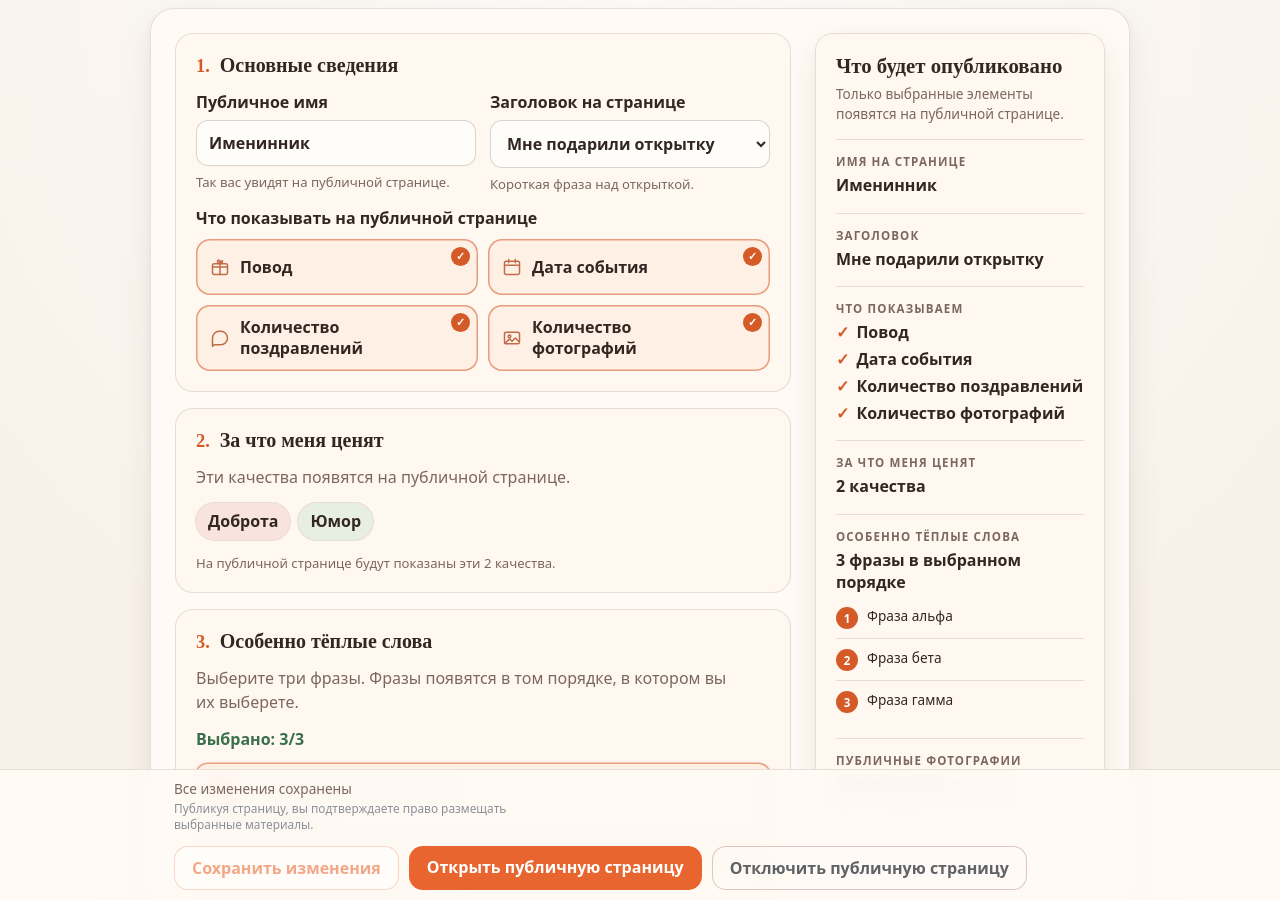
Scenario: PublicSharePanel: состояния действий › C: ACTIVE + ввод в поле имени — «Посмотреть изменения», «Открыть опубликованную страницу», статус о неопубликованных изменениях
Type "X" into the field showing "Именинник" at (336, 143), box [196,120,476,166]
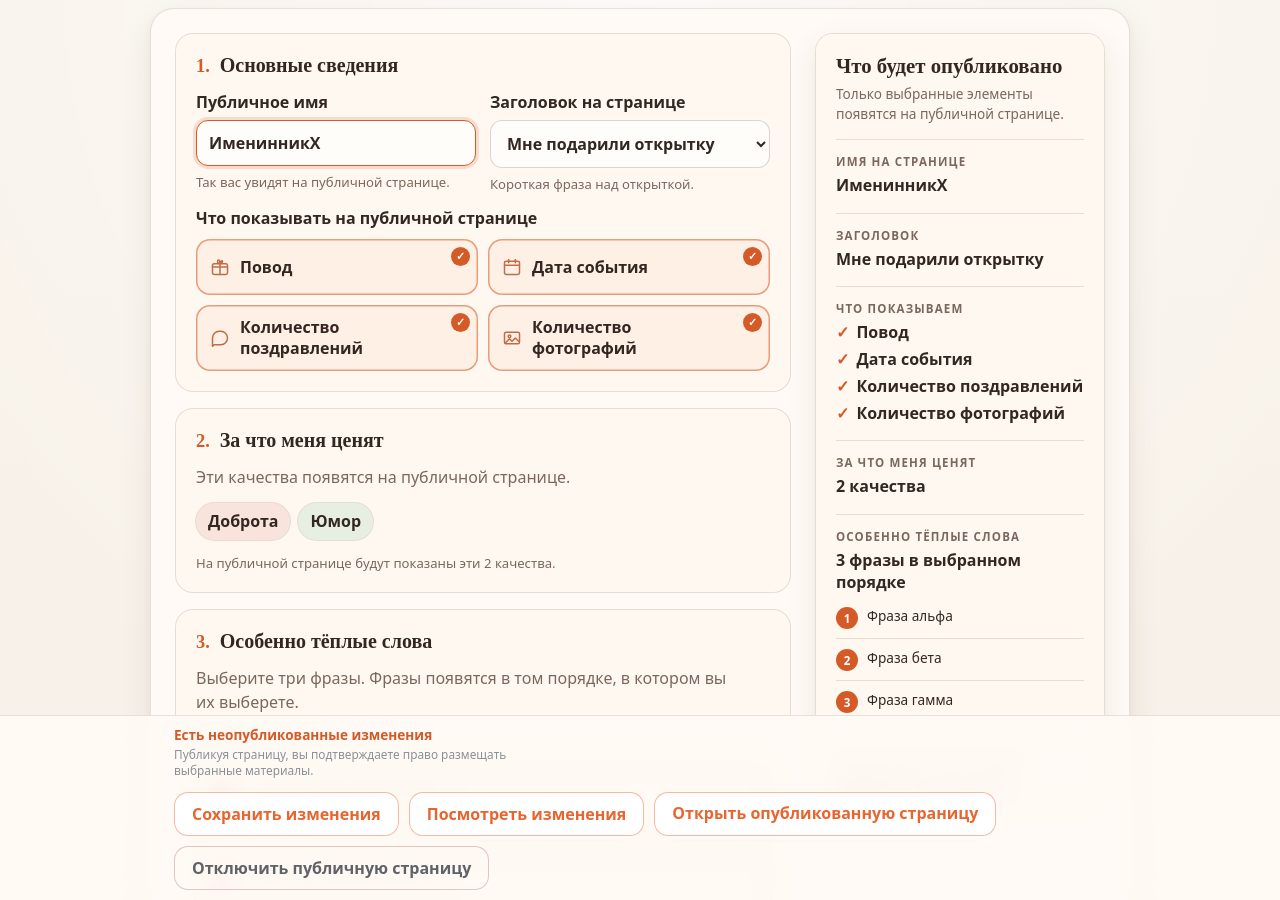
Expected: the link "Открыть опубликованную страницу" is shown, [654,792,996,836]
Expected: the text "Есть неопубликованные изменения" is shown, [174,725,432,744]
Expected: the button "Сохранить изменения" is enabled, [174,792,399,836]
